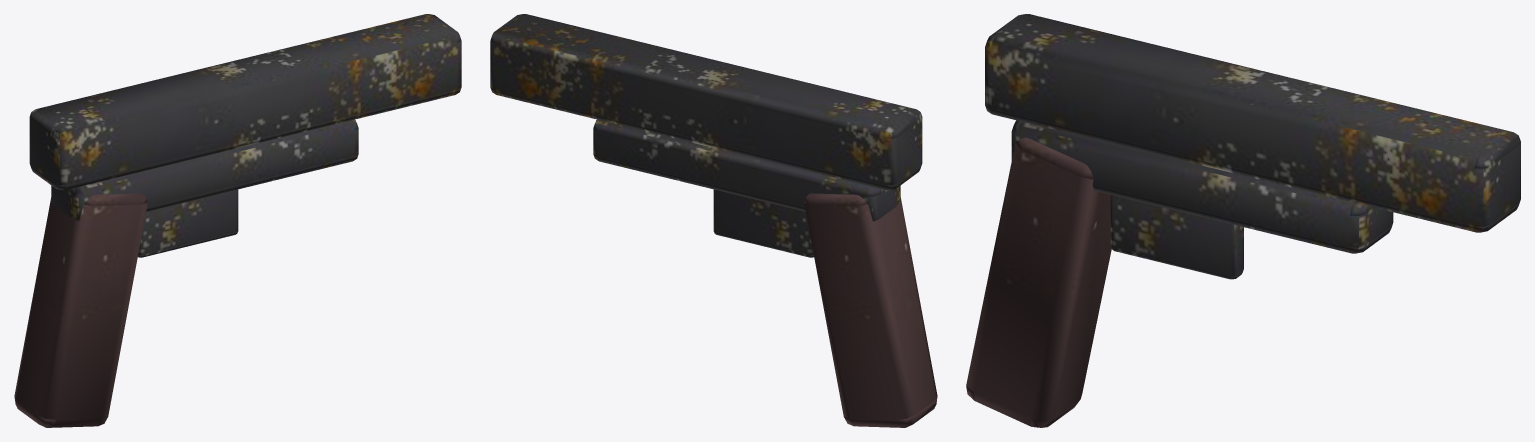
Rendered from held_weapon_grach.glb.
3 views of the same model, side by side, from view 1: azimuth 30°, elevation 25°; view 2: azimuth 150°, elevation 25°; view 3: azimuth 330°, elevation 25° (orthographic). The views are drawn at different scales.
Visible parts, largest first — view 1: box, box.002, box.001, box.003; view 2: box, box.002, box.001, box.003; view 3: box, box.002, box.001, box.003.
Part boxes in pixels (x1,y1,x2,y2): box: (29, 14, 461, 190); box.002: (14, 193, 147, 427); box.001: (51, 119, 358, 221); box.003: (138, 189, 238, 257); box: (490, 14, 922, 190); box.002: (804, 193, 937, 427); box.001: (593, 119, 900, 221); box.003: (713, 189, 813, 257); box: (985, 14, 1520, 232); box.002: (966, 137, 1111, 427); box.001: (1011, 120, 1393, 253); box.003: (1110, 195, 1243, 279).
Bounding box in the file's own units: 0.2078 × 0.1451 × 0.03.
Materials: 2 (2 with a texture image).
